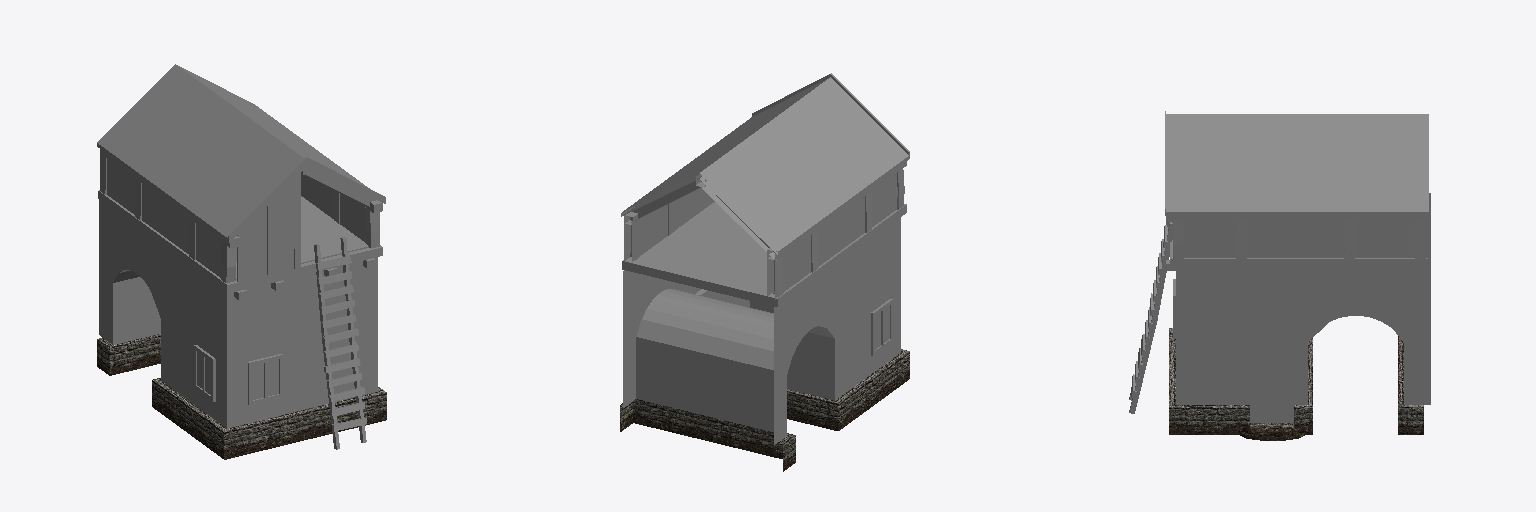
3 views of the same model, side by side, from view 1: azimuth 30°, elevation 25°; view 2: azimuth 150°, elevation 25°; view 3: azimuth 270°, elevation 25° (orthographic).
Visible parts, largest first — view 1: poorfolks_house_side_storage; view 2: poorfolks_house_side_storage; view 3: poorfolks_house_side_storage.
Boxes of the visible parts, box(x1,y1,x2,y2) form: poorfolks_house_side_storage: box(97, 64, 386, 459); poorfolks_house_side_storage: box(620, 73, 909, 471); poorfolks_house_side_storage: box(1129, 111, 1430, 440).
Size of the model in its own units: 423 by 661 by 635.
9 materials, 1 textured.